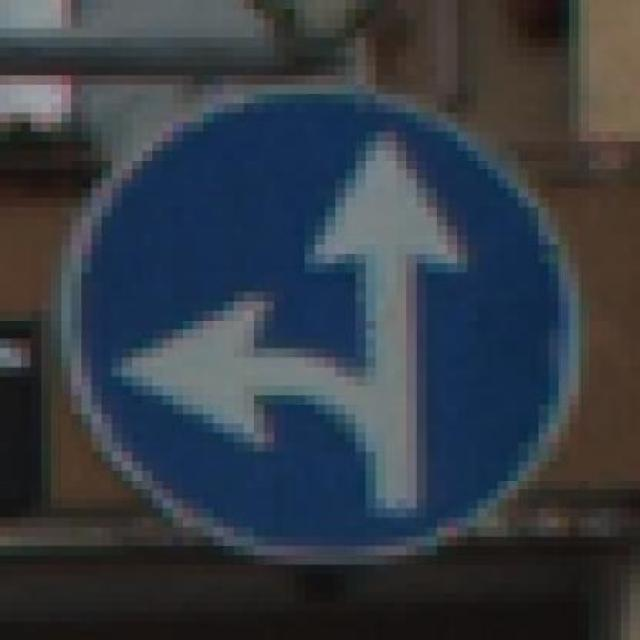Go straight or turn left: (61, 84, 599, 593)
